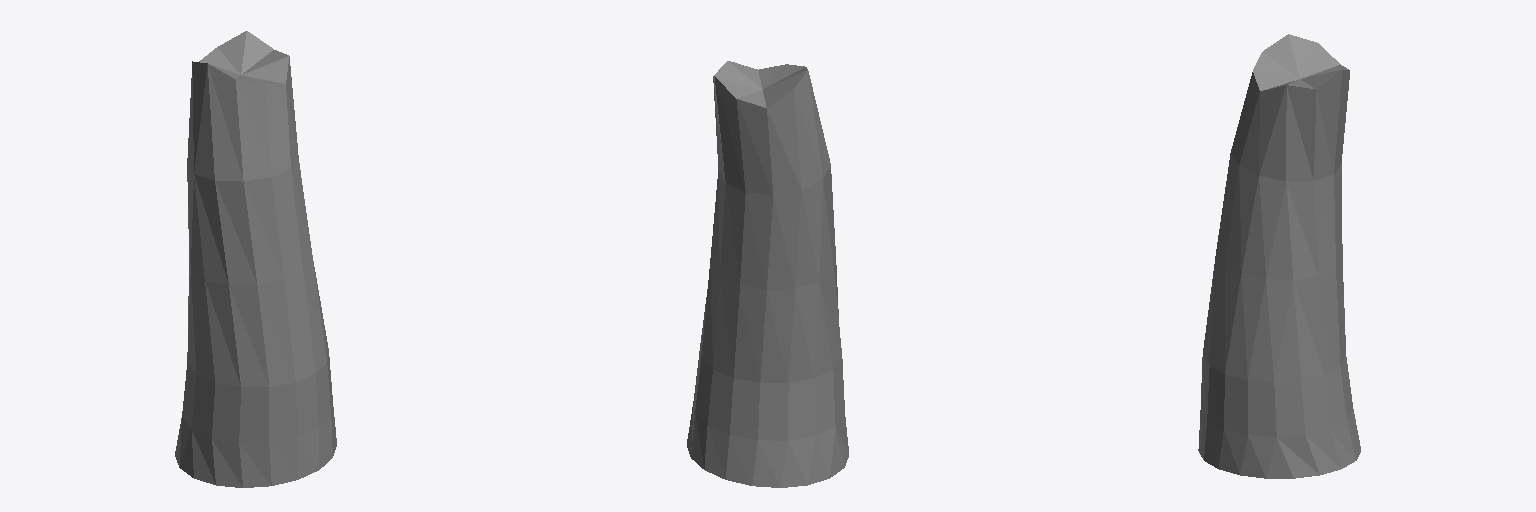
File: Tree03.obj
The picture shows the model from 3 angles: view 1: azimuth 30°, elevation 25°; view 2: azimuth 150°, elevation 25°; view 3: azimuth 270°, elevation 25°; orthographic projection.
Parts seen in each view (by area): view 1: Mesh; view 2: Mesh; view 3: Mesh.
Part boxes in pixels (x1,y1,x2,y2): Mesh: (175,31,336,487); Mesh: (687,61,848,487); Mesh: (1198,34,1360,478).
Size of the model in its own units: 1.51 by 4.16 by 1.54.